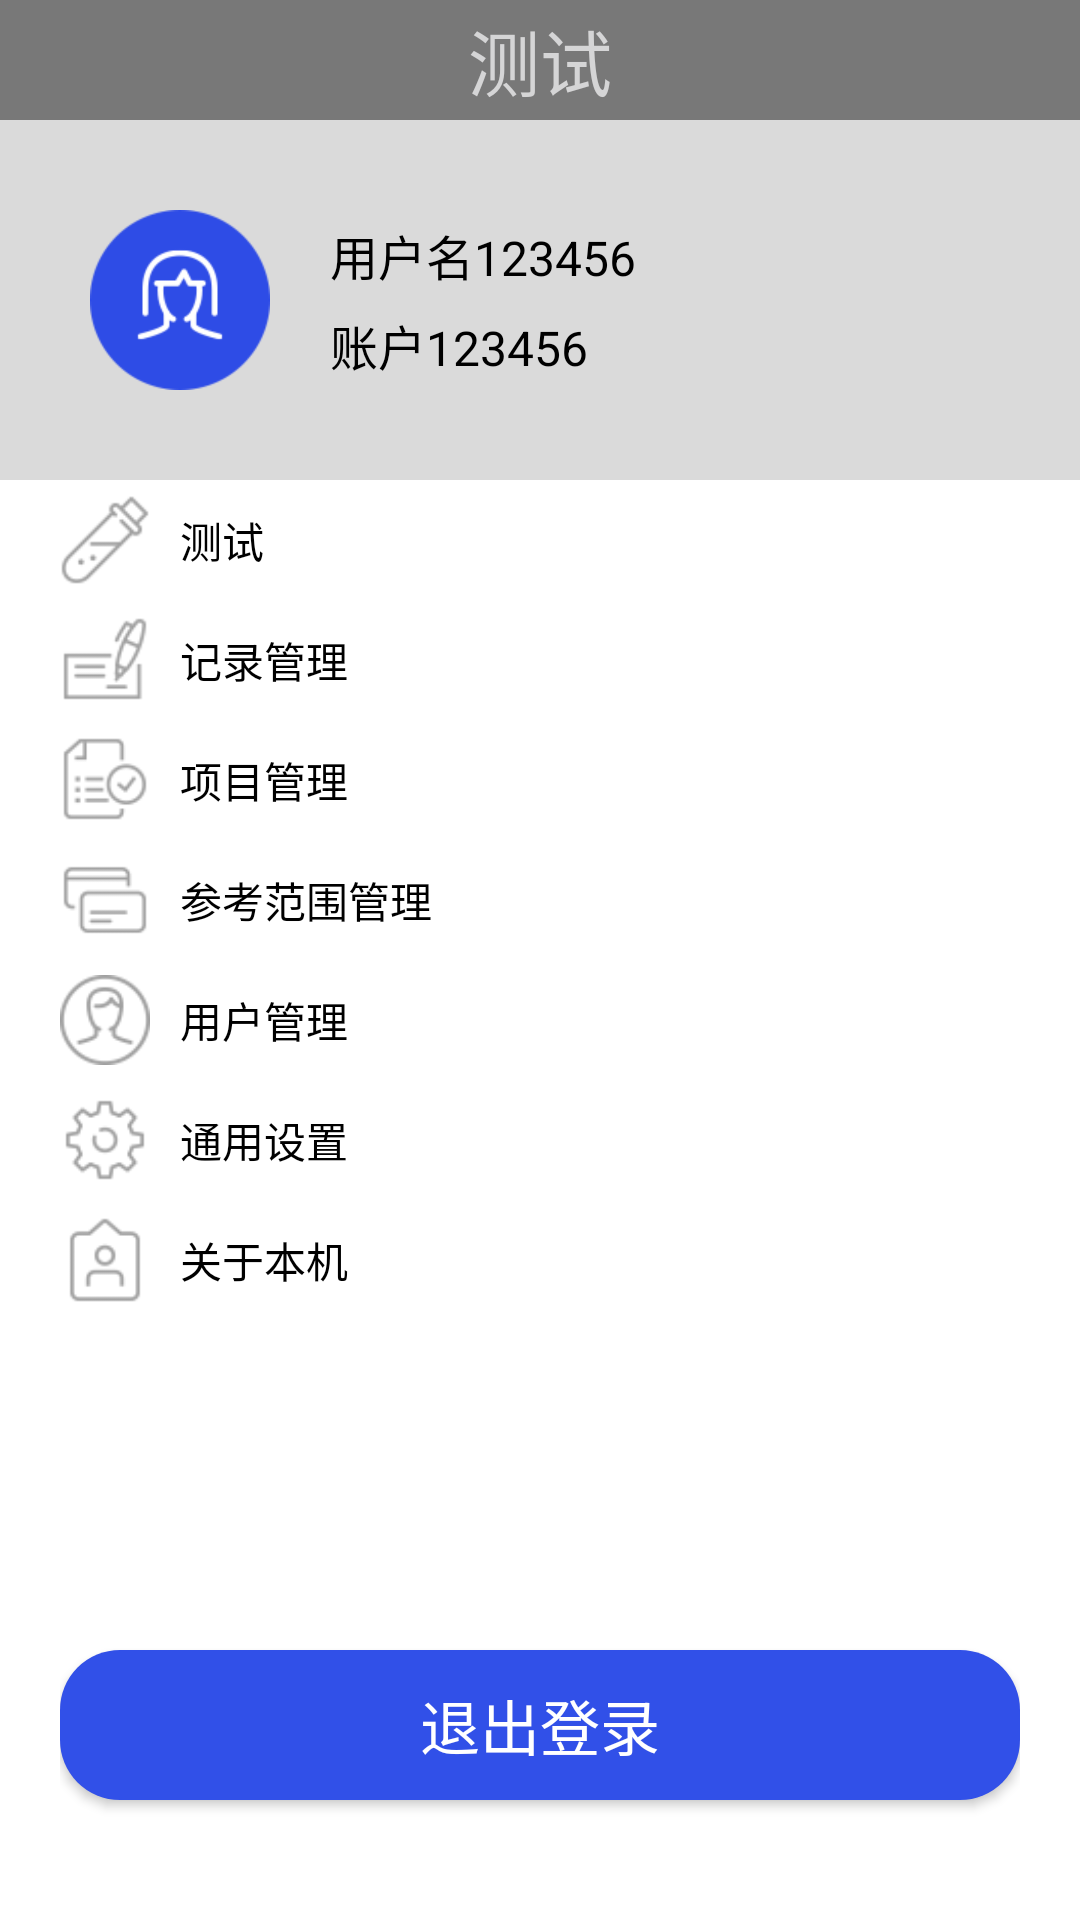

Screen size 1080px×1920px. Icon name, then its center in pixels as [x,y]:
project management: [105,779]
record: [105,659]
setting: [105,1140]
